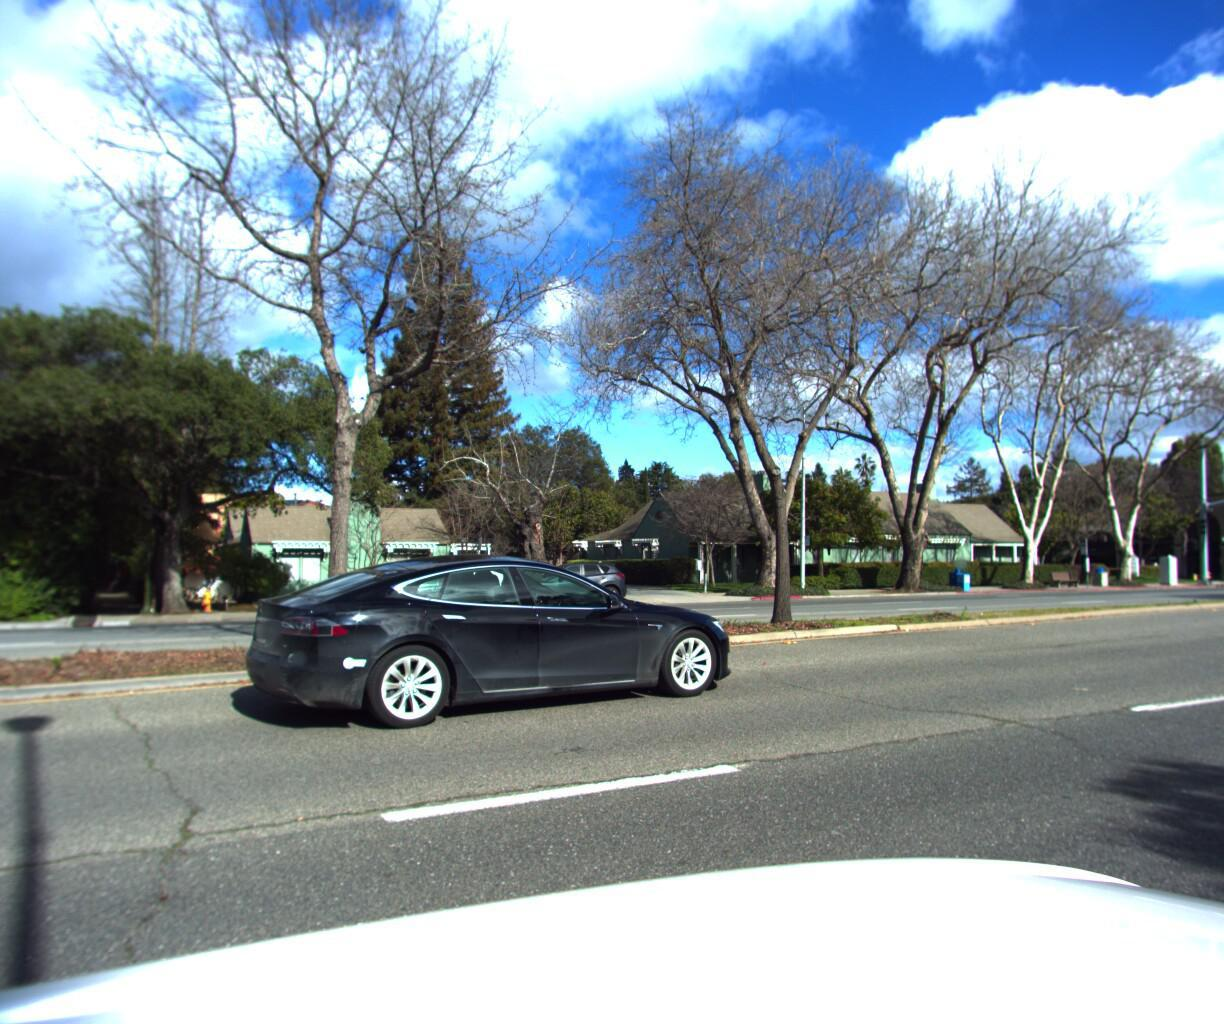bicycle: (1205, 551, 1224, 578)
car: (218, 539, 757, 751), (498, 558, 635, 611)
